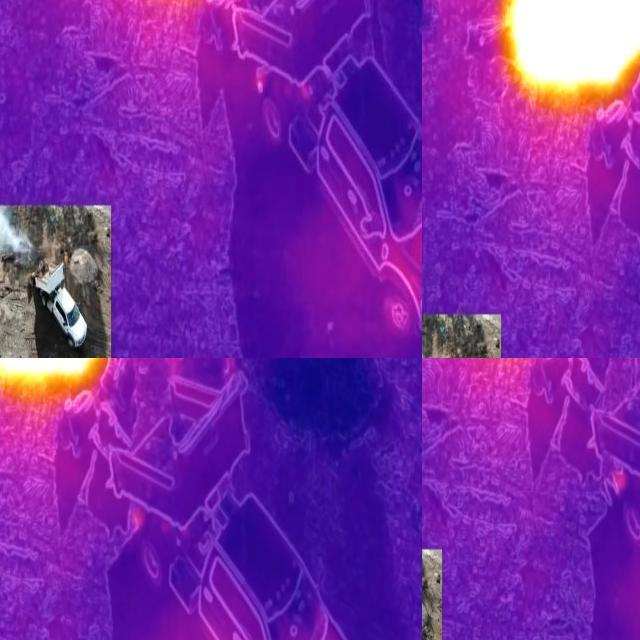fire: (501, 1, 640, 107), (1, 360, 112, 396)
